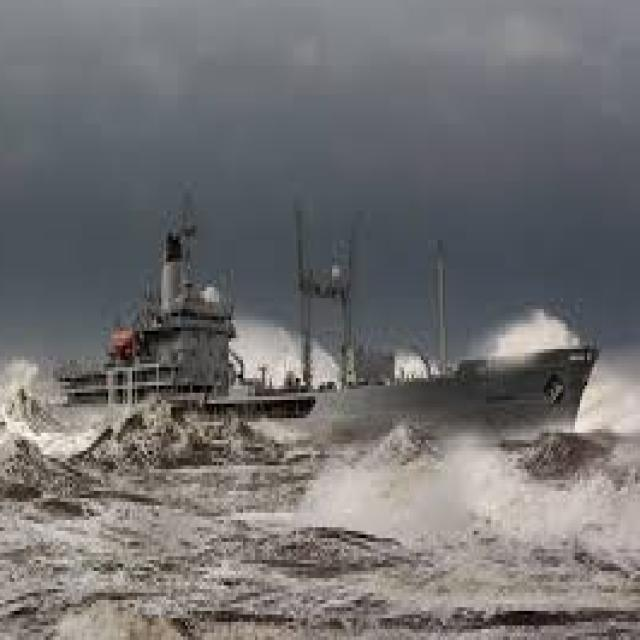navalvessels: (25, 191, 630, 479)
